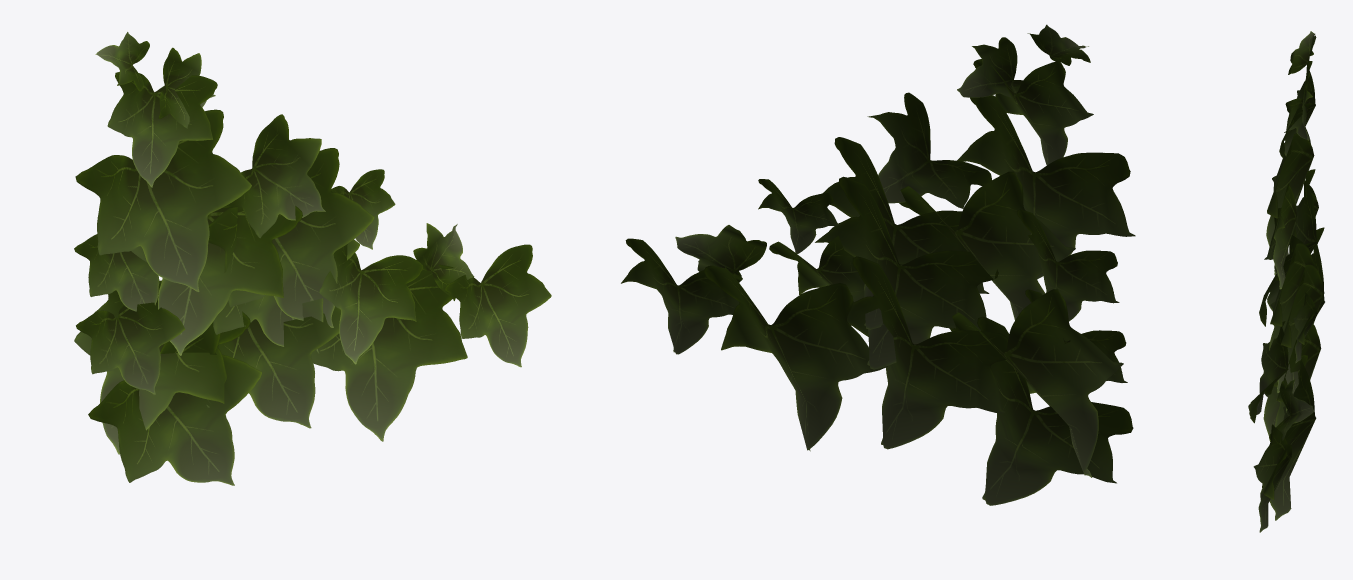
The model's file is corner_ivy_cluster.fbx.
3 views of the same model, side by side, from view 1: azimuth 30°, elevation 25°; view 2: azimuth 150°, elevation 25°; view 3: azimuth 270°, elevation 25° (orthographic). The views are drawn at different scales.
Parts seen in each view (by area): view 1: polySurface36; view 2: polySurface36; view 3: polySurface36.
Part boxes in pixels (left/top/right/bottom): polySurface36: left=74, top=32, right=551, bottom=485; polySurface36: left=621, top=24, right=1135, bottom=505; polySurface36: left=1248, top=31, right=1324, bottom=532.
Size of the model in its own units: 66.04 by 61.75 by 14.44.
